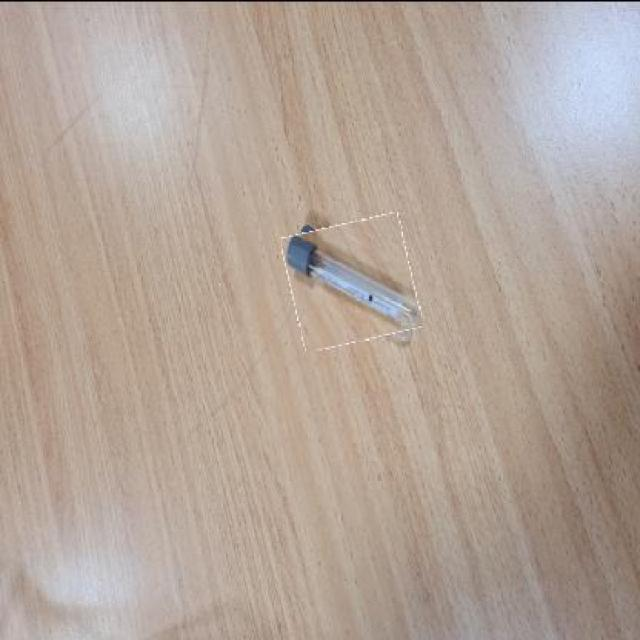Experimental-tube: (286, 217, 419, 346)
